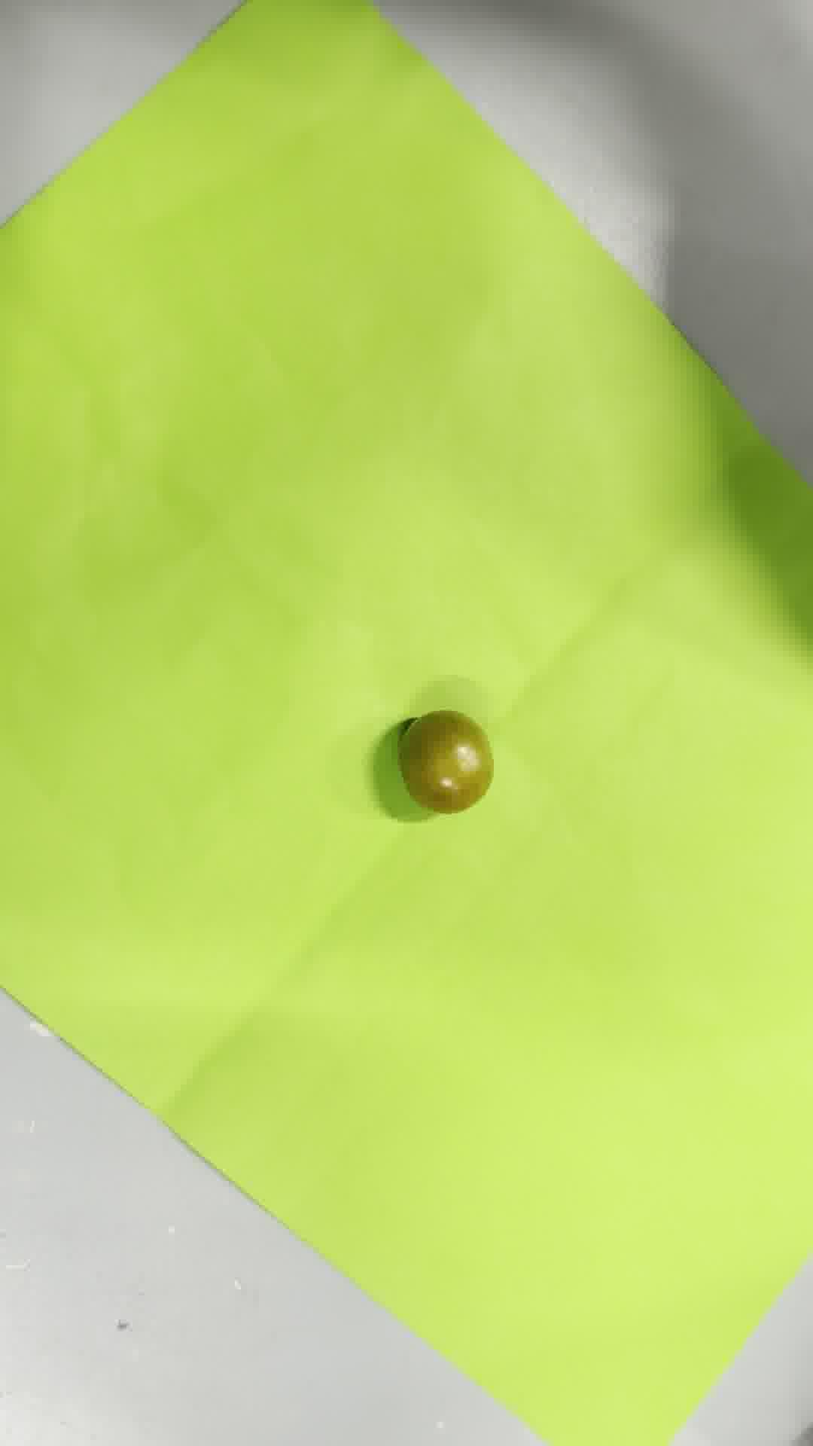yellow_cherry_tomato: (399, 710, 493, 813)
